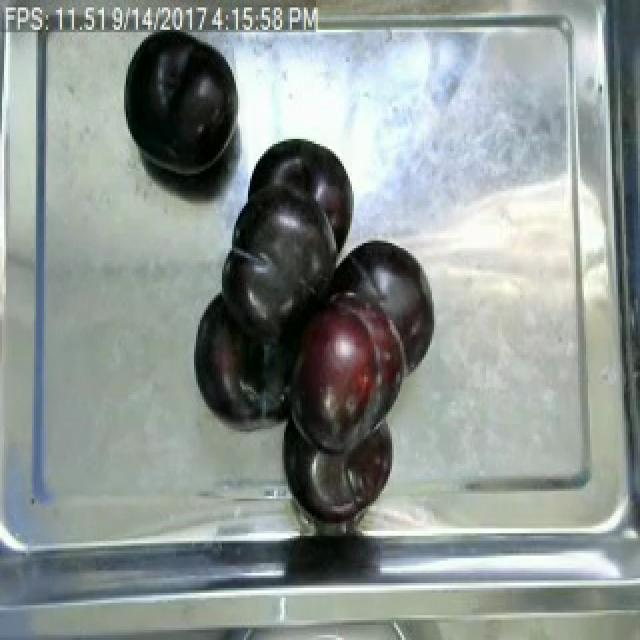Fruit: (276, 278, 414, 461), (120, 25, 242, 186)
